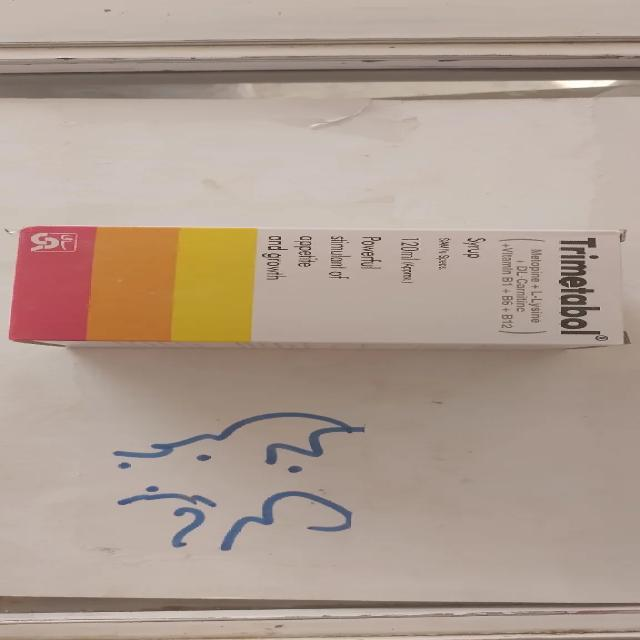drug-name: (554, 238, 602, 336)
